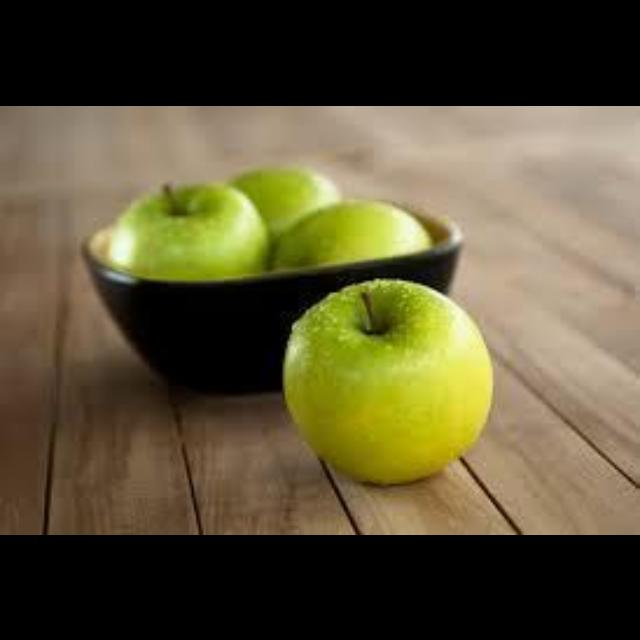apple: (283, 278, 491, 483), (107, 182, 266, 278), (271, 198, 430, 269), (229, 166, 339, 240)
